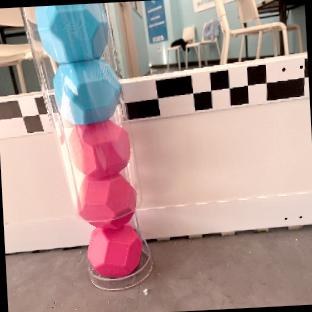V5_BLUE: (35, 3, 120, 125)
V5_RED: (67, 120, 129, 175), (88, 222, 145, 277), (77, 174, 135, 225)
